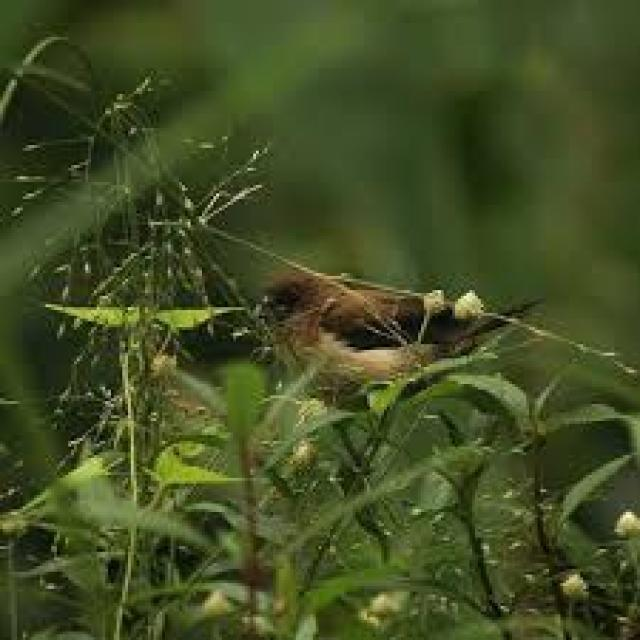bird: (240, 256, 551, 394)
